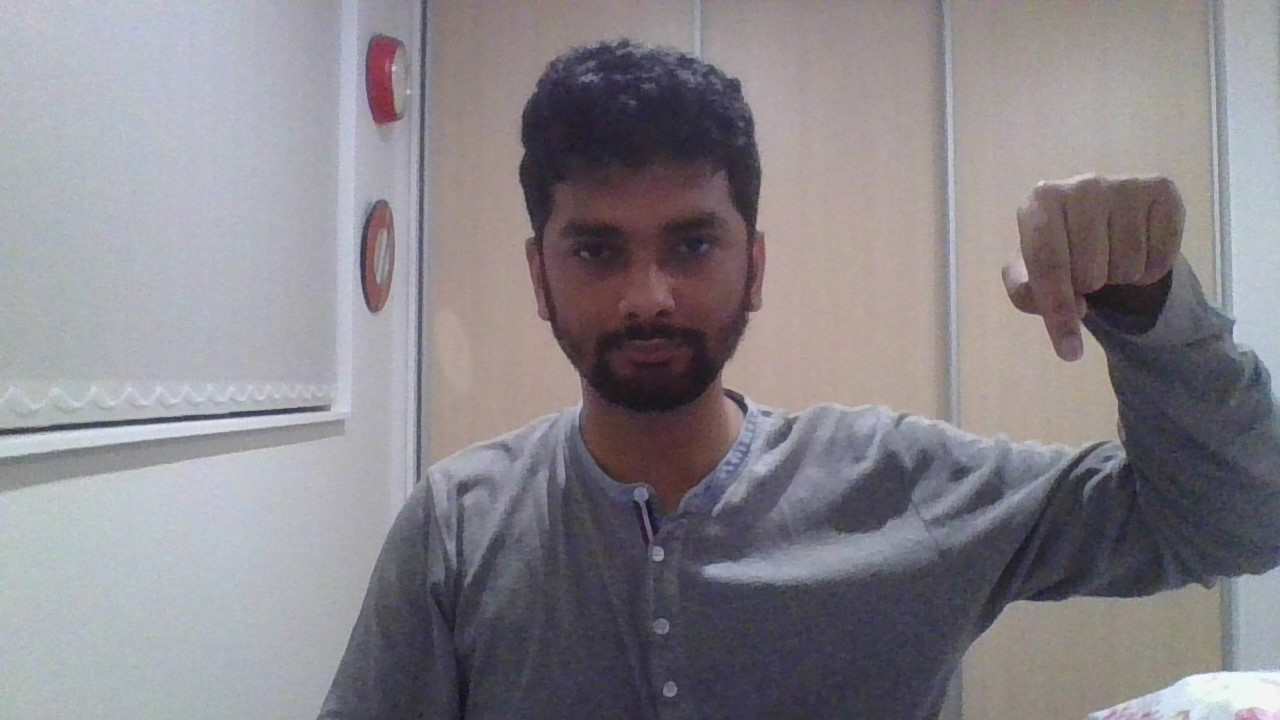below: (1002, 172, 1185, 361)
